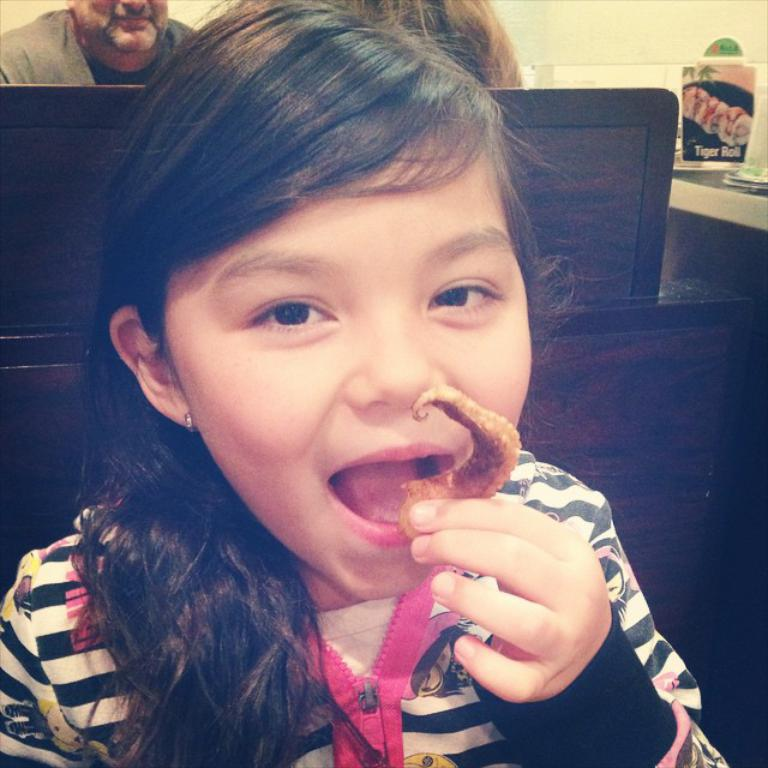Human-face: (164, 116, 533, 599), (71, 0, 167, 54)
